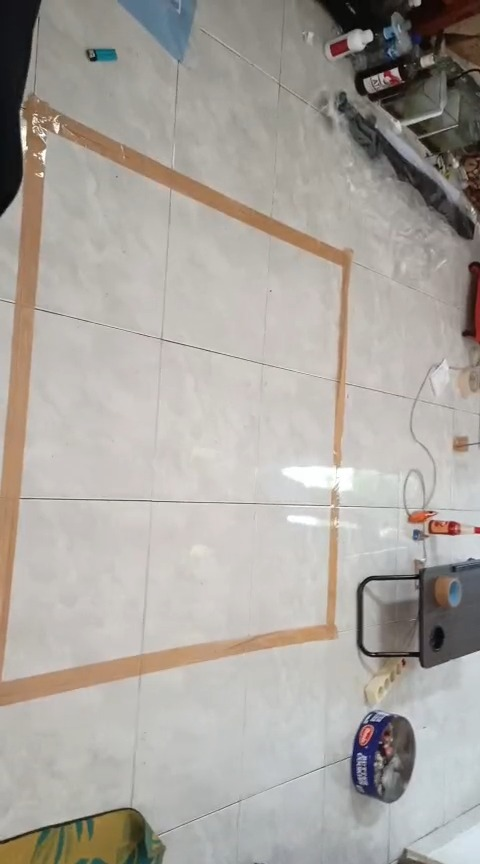floor marking: (0, 94, 352, 704)
